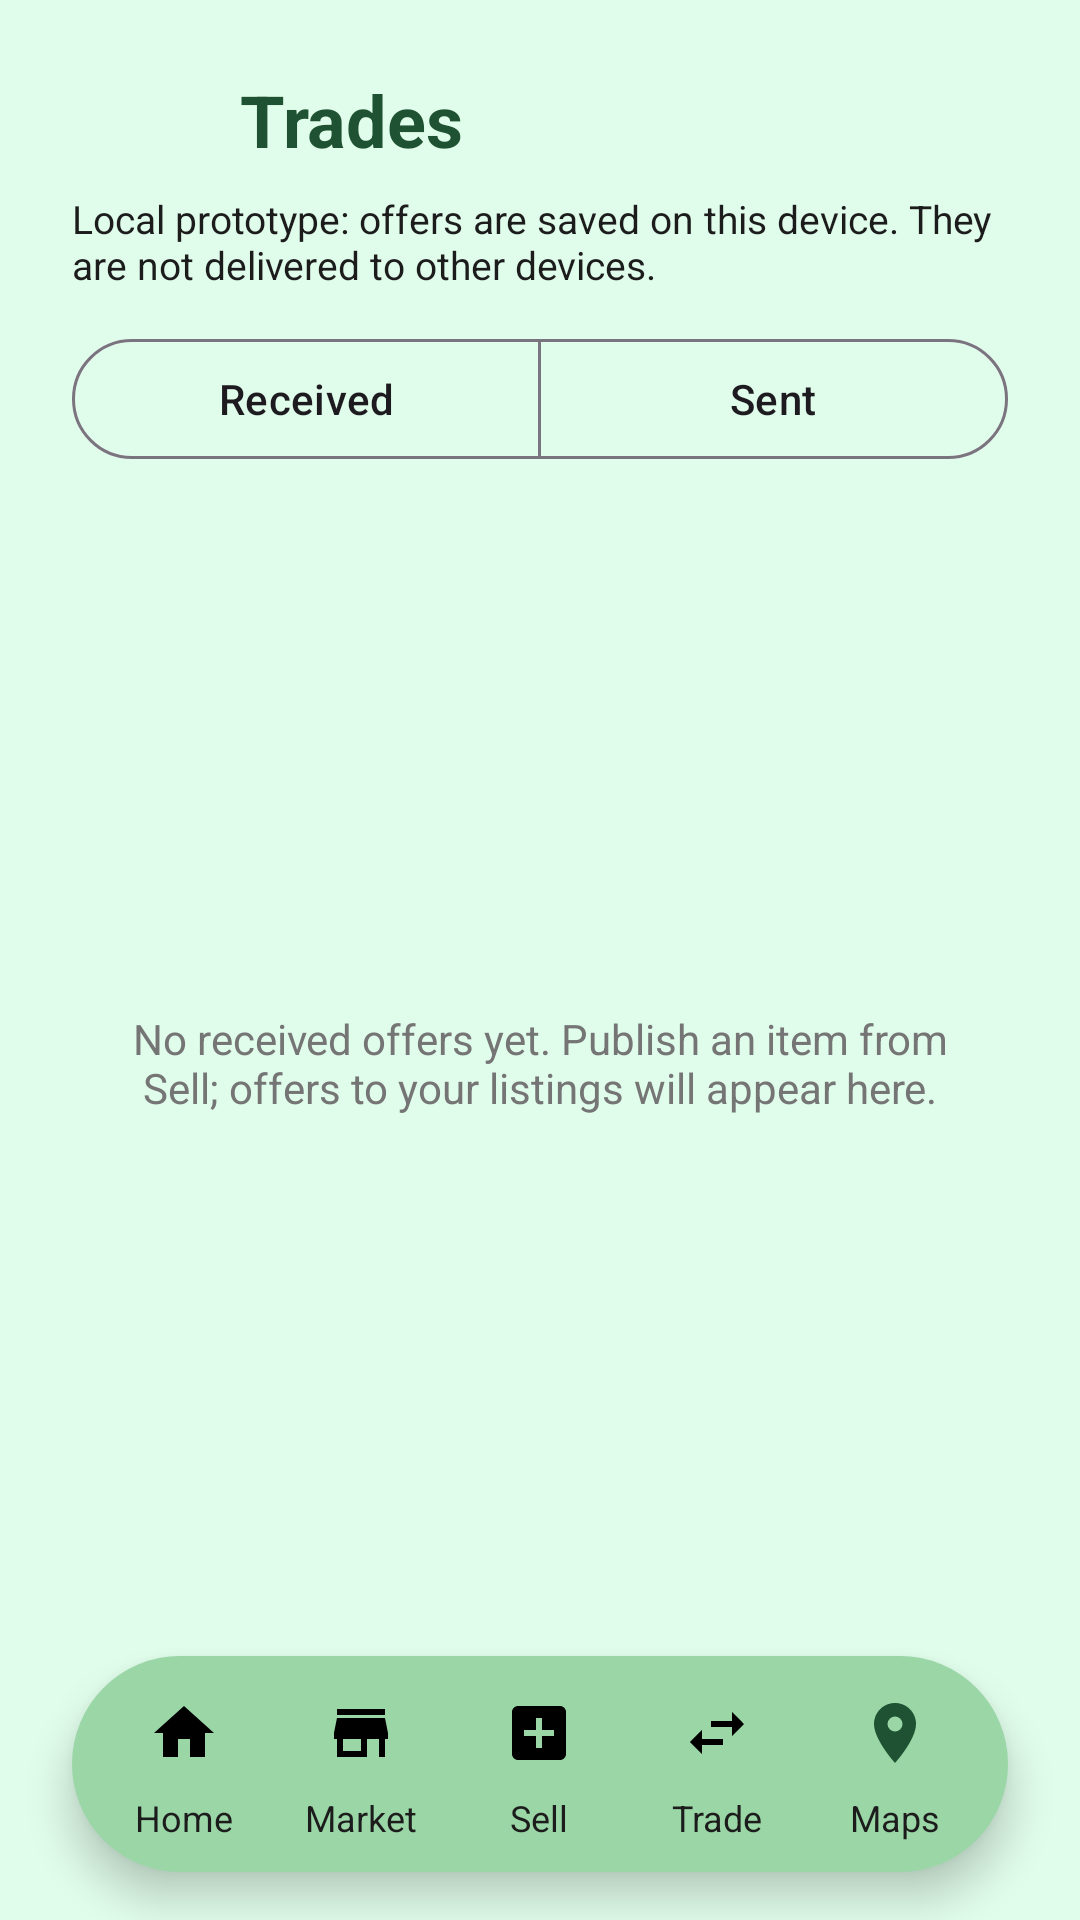

Point at icon controls on the screen. Image size 1080*1920, points as (x,y).
location: (895,1733)
